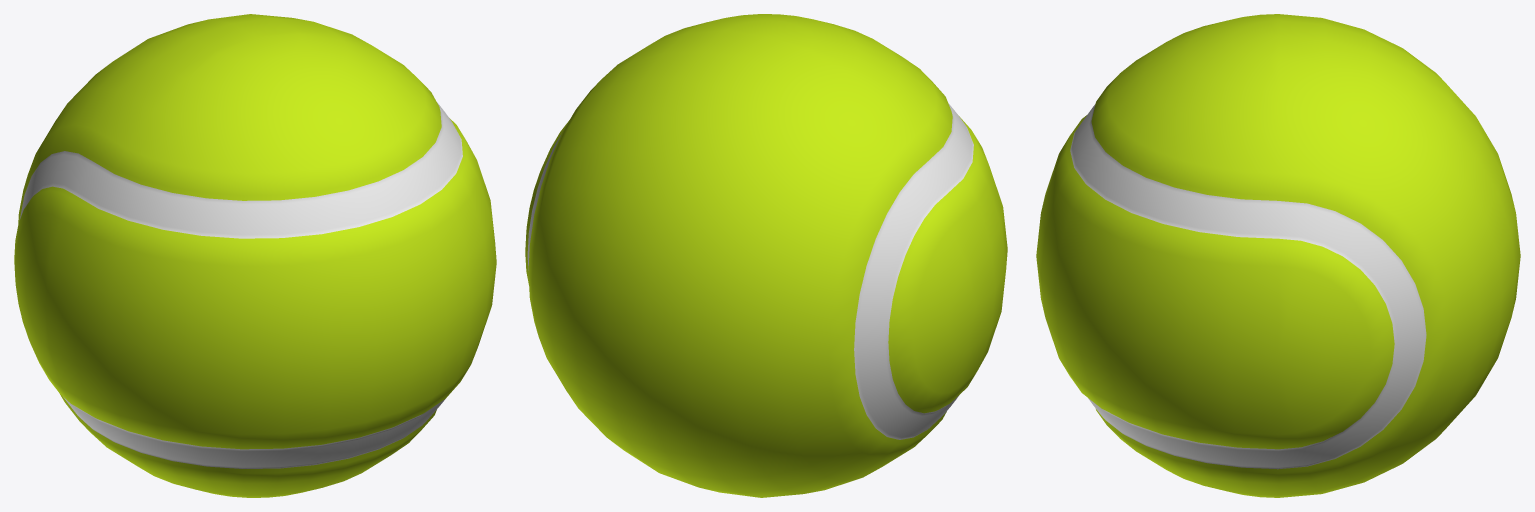
The model's file is ball.glb.
The picture shows the model from 3 angles, left to right: view 1: azimuth 30°, elevation 25°; view 2: azimuth 150°, elevation 25°; view 3: azimuth 270°, elevation 25°; orthographic projection.
Parts seen in each view (by area): view 1: TennisBall_2; view 2: TennisBall_2; view 3: TennisBall_2.
Part boxes in pixels (bbox=[...]): TennisBall_2: bbox=[14, 14, 496, 497]; TennisBall_2: bbox=[525, 14, 1007, 497]; TennisBall_2: bbox=[1036, 14, 1520, 497].
Size of the model in its own units: 2 by 2 by 2.
